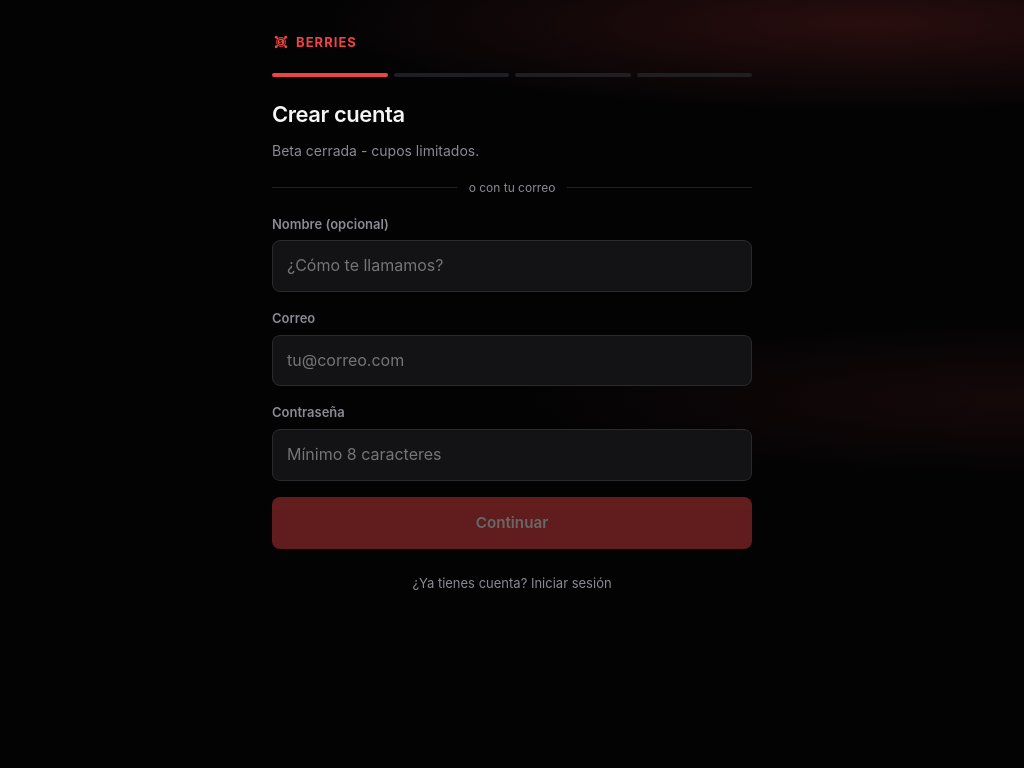
Test: RegisterWizard › quitar una billetera agregada la saca de la lista
Type "ash@example.com" into the field labelled "Correo" at (512, 361), box [272,335,752,386]
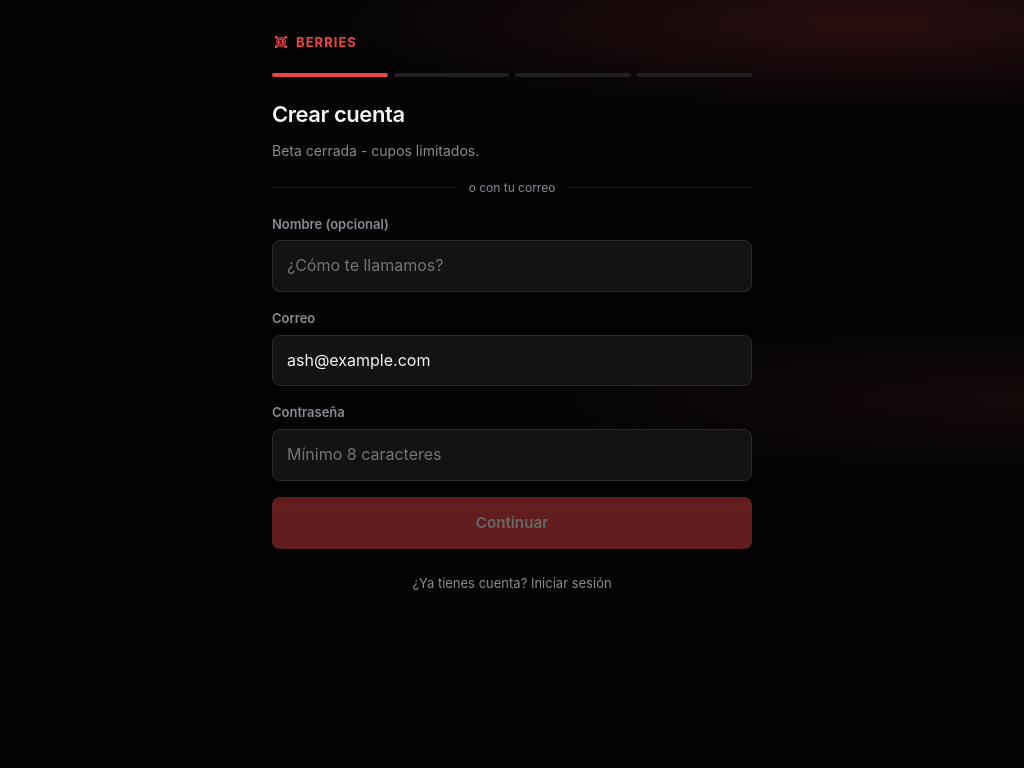
Type "clave12345" into the password field labelled "Contraseña" at (512, 455), box [272,429,752,481]
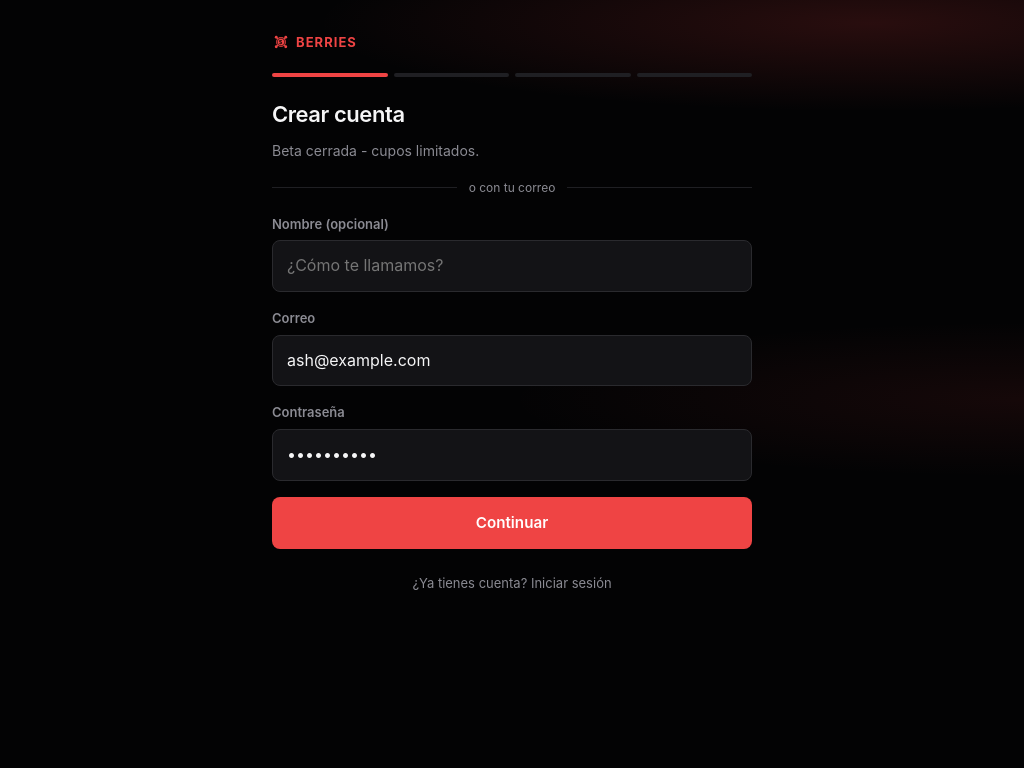
Submit the form, box [272,214,752,549]
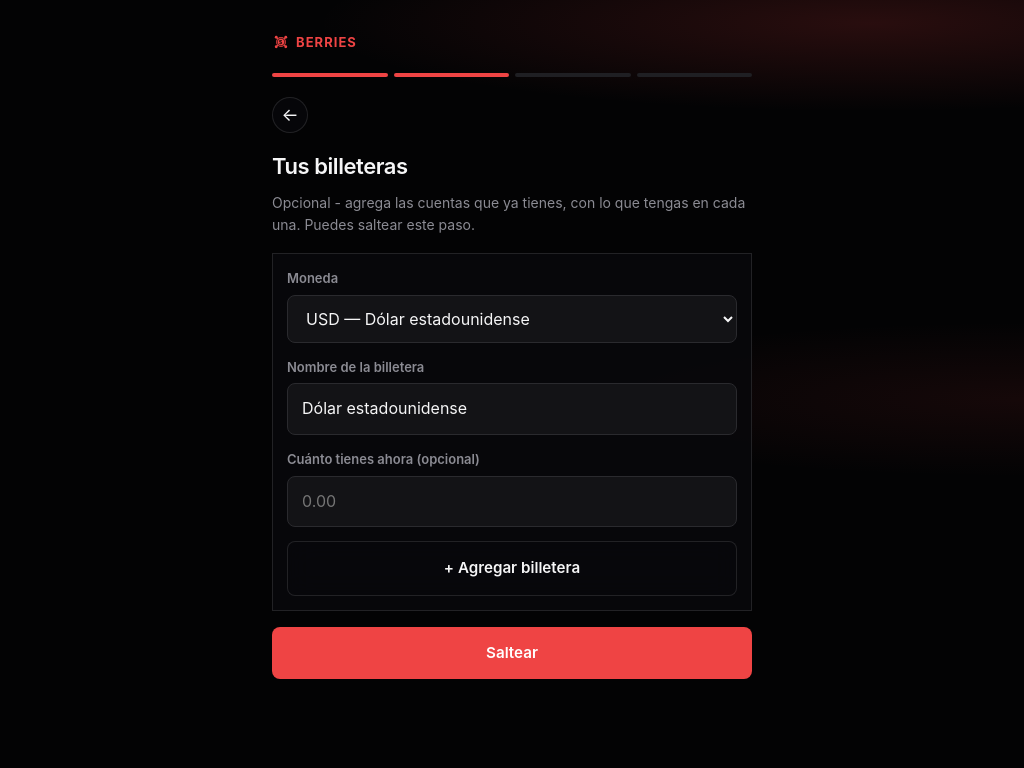
Select "USD — Dólar estadounidense" in the dropdown labelled "Moneda" at (512, 319), box [287,295,737,343]
Replace the text in the field labelled "Nombre de la billetera" with "Facebank" at (512, 409), box [287,383,737,435]
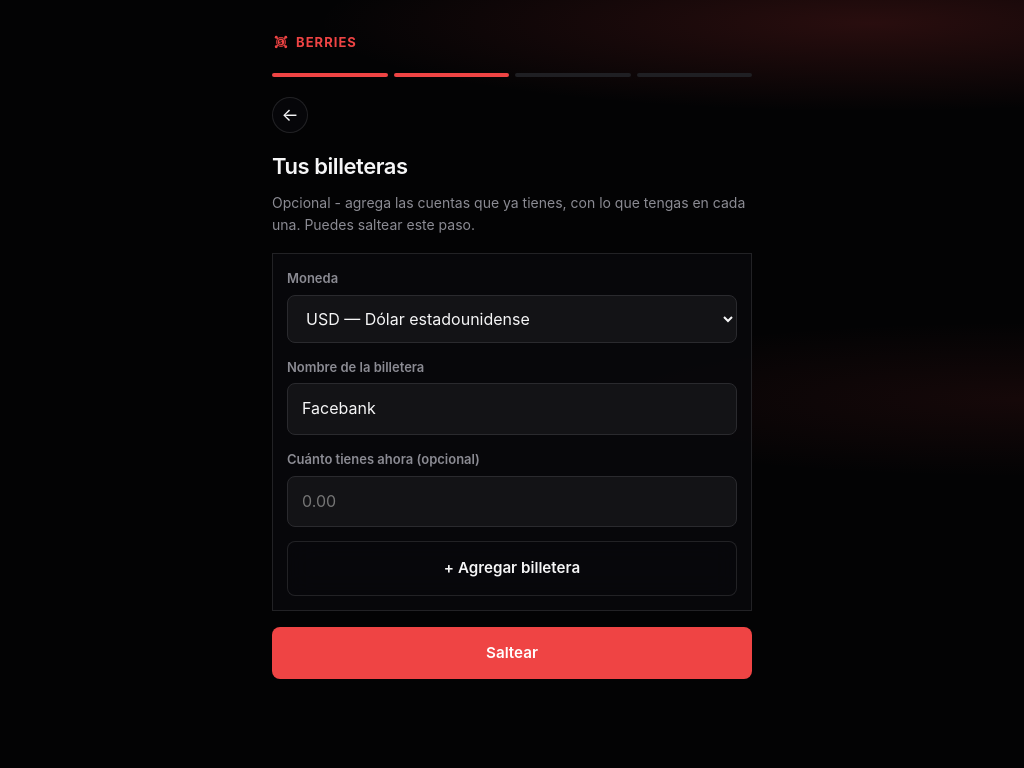
Click the button with class "wallet-add-button" at (512, 568), box [287,541,737,596]
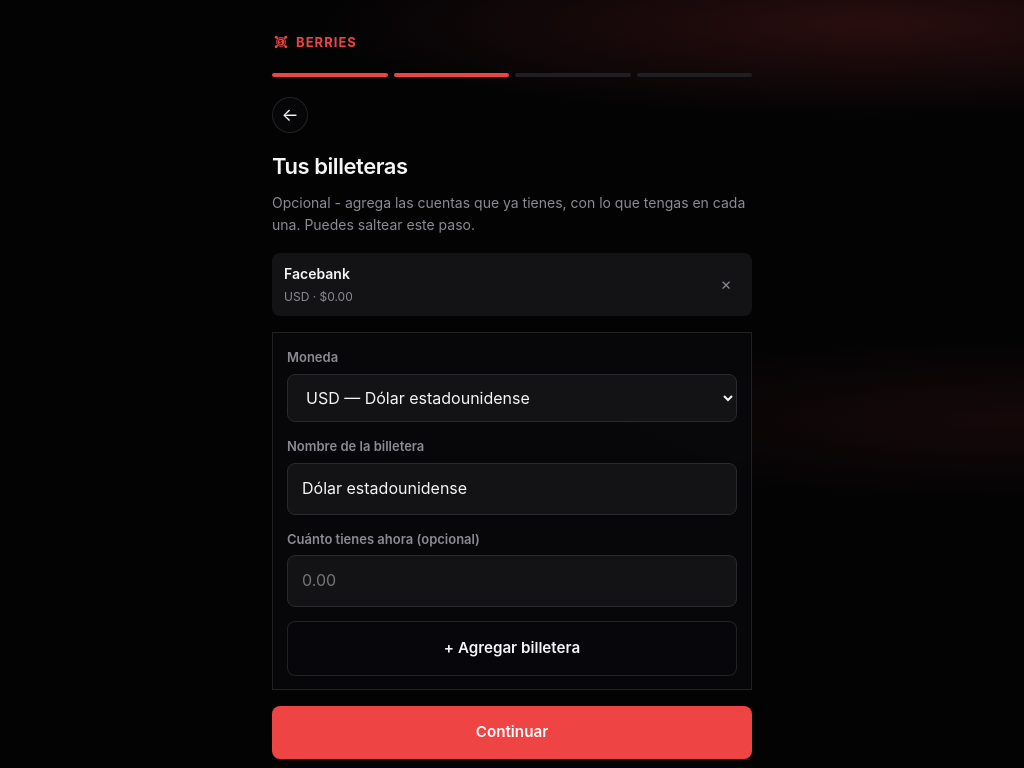
Click the button with class "wallet-draft-remove" at (726, 284), box [712,270,740,298]
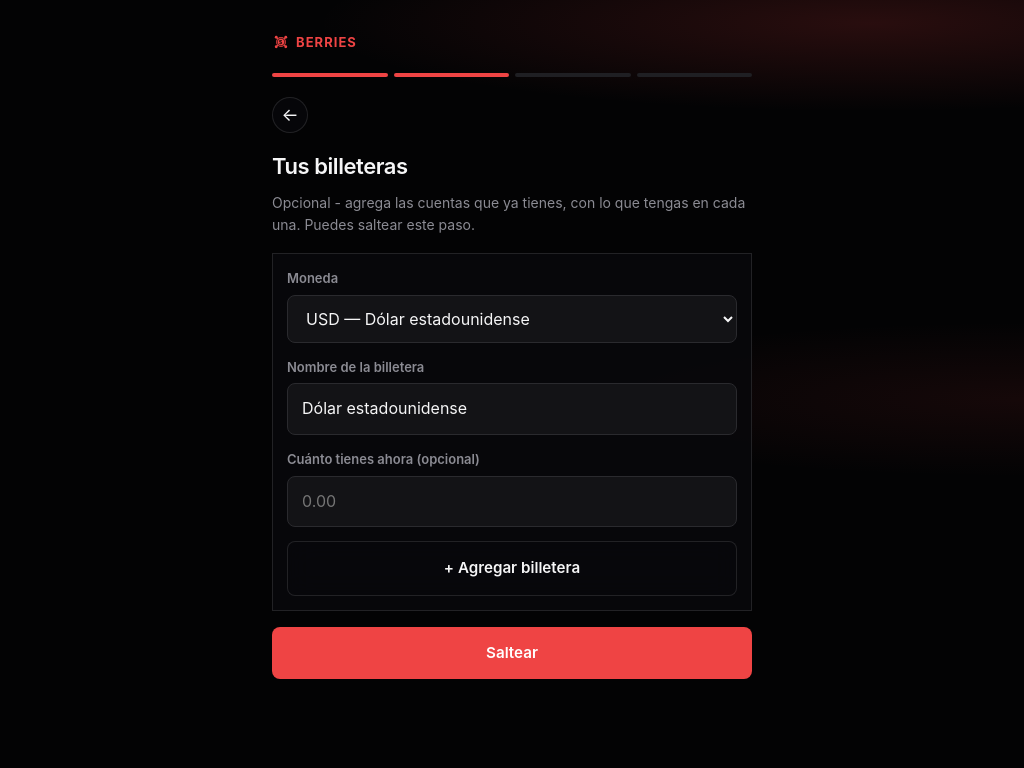
Result: no list items with class "wallet-draft-item" are shown
